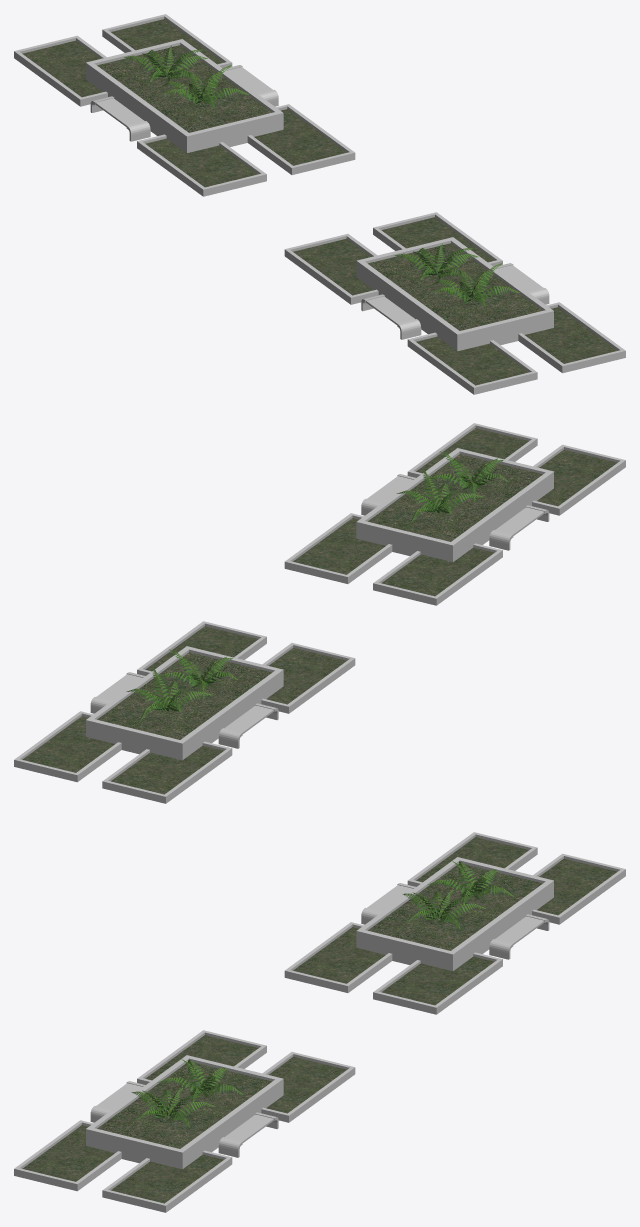
The model's file is Park-01.fbx.
3 views of the same model, one above another, from view 1: azimuth 30°, elevation 25°; view 2: azimuth 150°, elevation 25°; view 3: azimuth 330°, elevation 25° (orthographic).
Visible parts, largest first — view 1: Park-01, Park-01-Grass; view 2: Park-01-Grass, Park-01; view 3: Park-01, Park-01-Grass.
Boxes of the visible parts, x1=… form: Park-01: x1=14, y1=14, x2=625, y2=394; Park-01-Grass: x1=22, y1=19, x2=617, y2=385; Park-01-Grass: x1=22, y1=428, x2=617, y2=794; Park-01: x1=14, y1=423, x2=625, y2=803; Park-01: x1=14, y1=832, x2=625, y2=1212; Park-01-Grass: x1=22, y1=837, x2=617, y2=1203.
Size of what is drawn, in the model's own units: 5.84 by 1.76 by 30.6.
